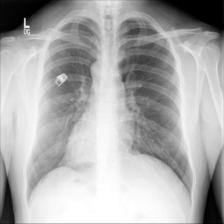normal: (21, 6, 200, 213)
